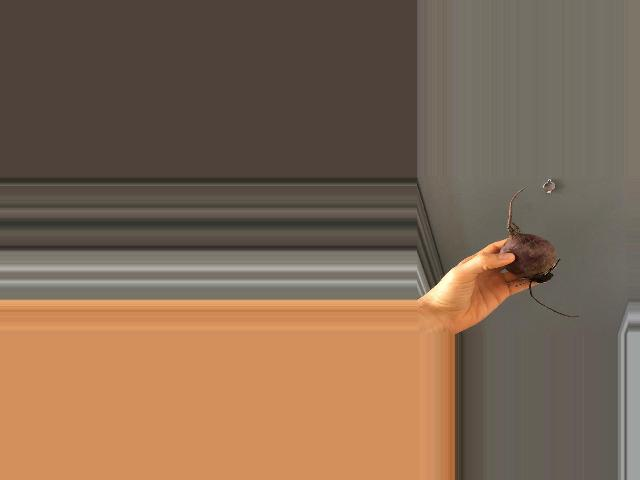beet: (499, 188, 579, 317)
